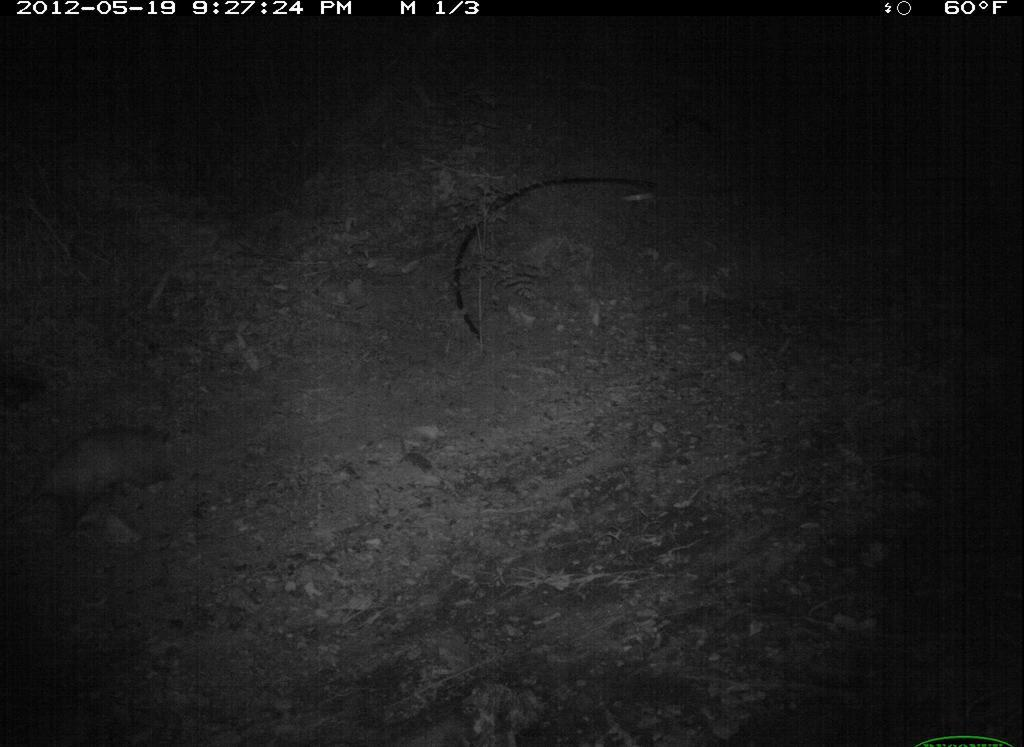opossum: (17, 417, 185, 527)
